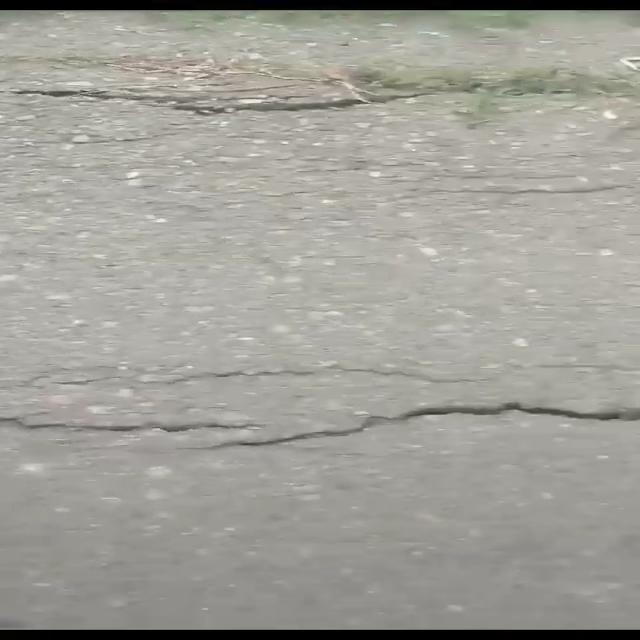Melintang: (2, 396, 640, 462)
